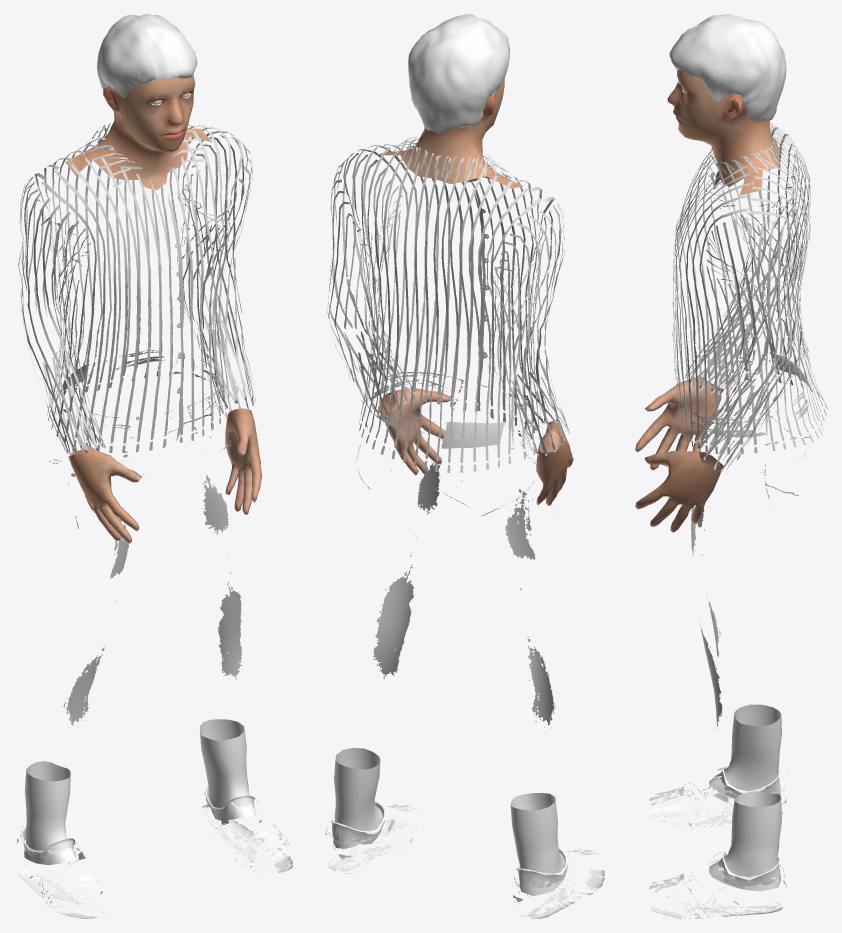
The model's file is ped01.fbx.
3 renders of one model, left to right at view 1: azimuth 30°, elevation 25°; view 2: azimuth 150°, elevation 25°; view 3: azimuth 270°, elevation 25°, orthographic.
Visible parts, largest first — view 1: Human.male_casualsuit03, Human.male1591, Human.shoes02, Human.short02; view 2: Human.male_casualsuit03, Human.shoes02, Human.short02, Human.male1591; view 3: Human.male_casualsuit03, Human.male1591, Human.shoes02, Human.short02.
Part boxes in pixels (x1,y1,x2,y2): Human.male_casualsuit03: (18, 122, 255, 826); Human.male1591: (65, 74, 261, 543); Human.shoes02: (16, 719, 292, 918); Human.short02: (97, 14, 197, 98); Human.male_casualsuit03: (327, 137, 569, 878); Human.shoes02: (325, 747, 604, 918); Human.short02: (408, 14, 510, 133); Human.male1591: (375, 76, 573, 505); Human.male_casualsuit03: (672, 121, 827, 771); Human.male1591: (635, 69, 779, 532); Human.shoes02: (649, 704, 786, 918); Human.short02: (669, 14, 786, 120).
Size of the model in its own units: 50.5 by 172 by 35.5.
